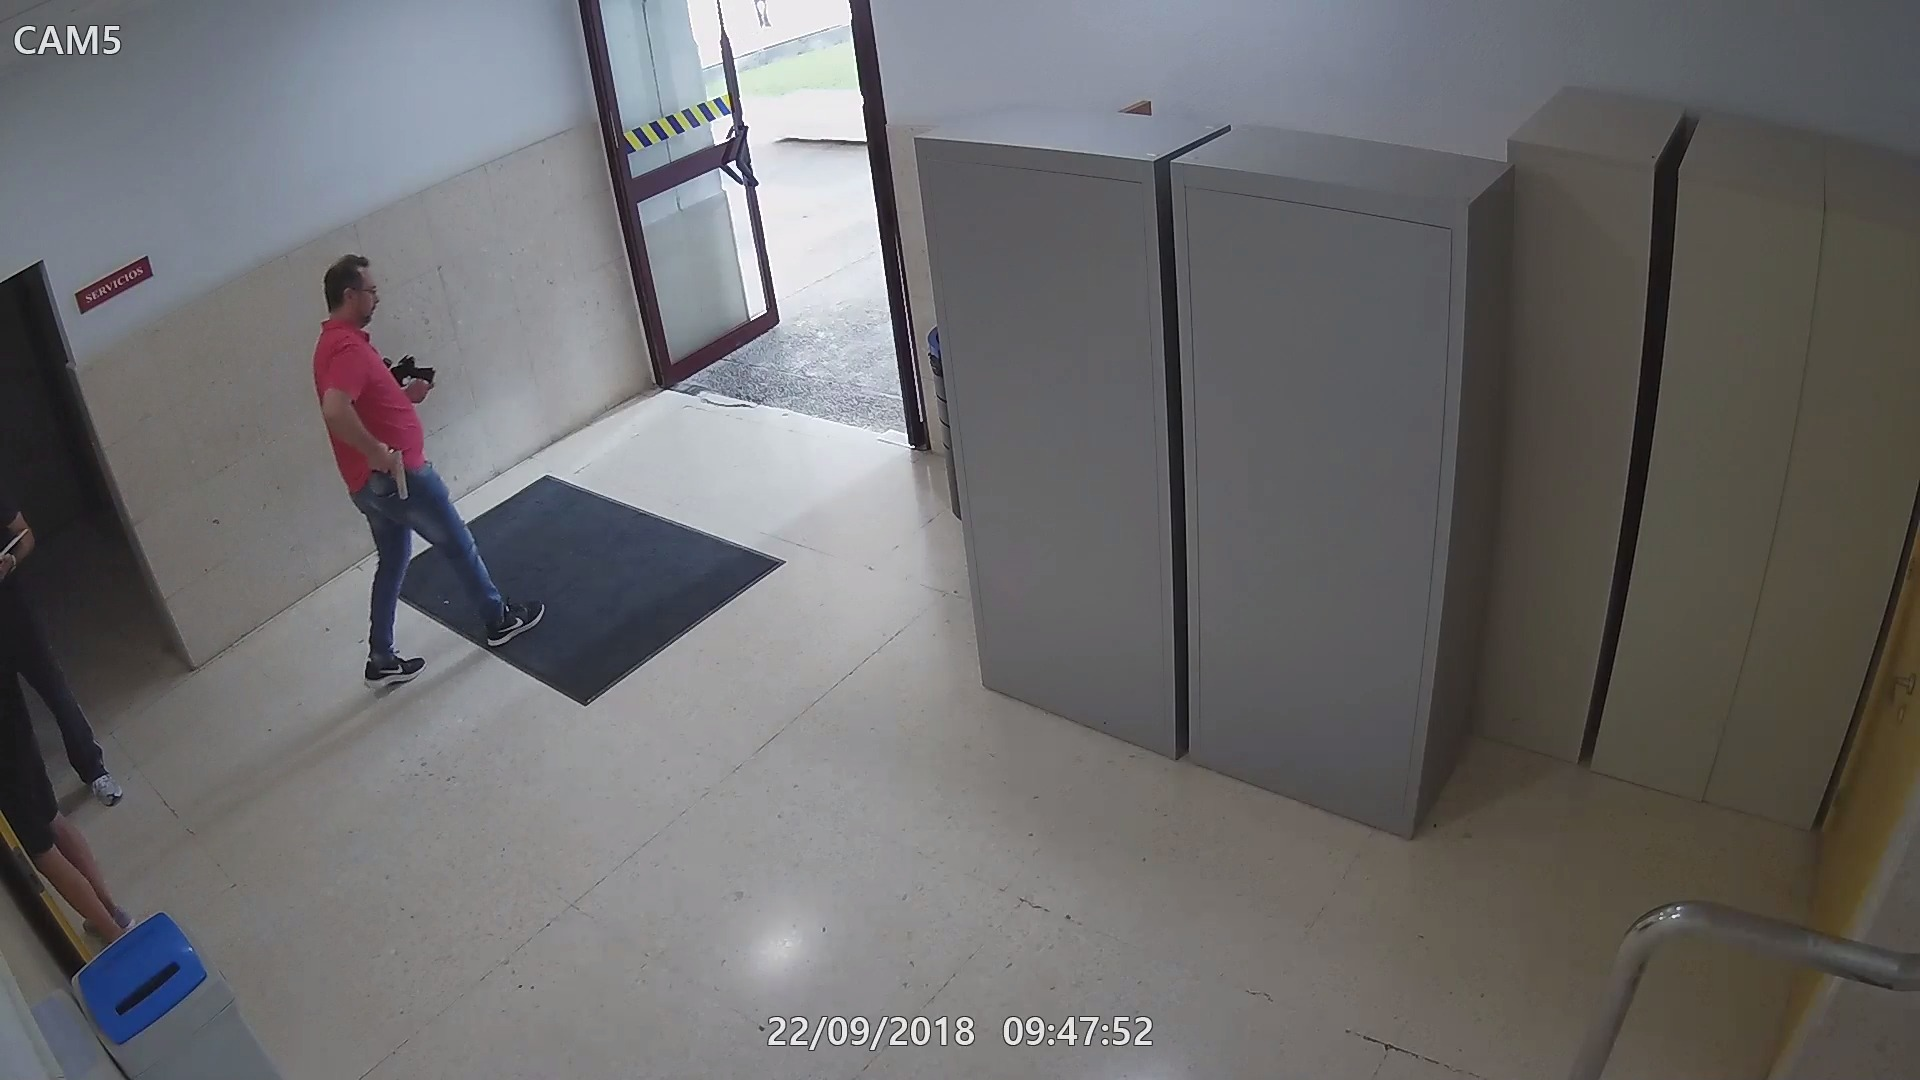Handgun: (367, 440, 411, 502)
Short_rifle: (378, 348, 440, 389)
